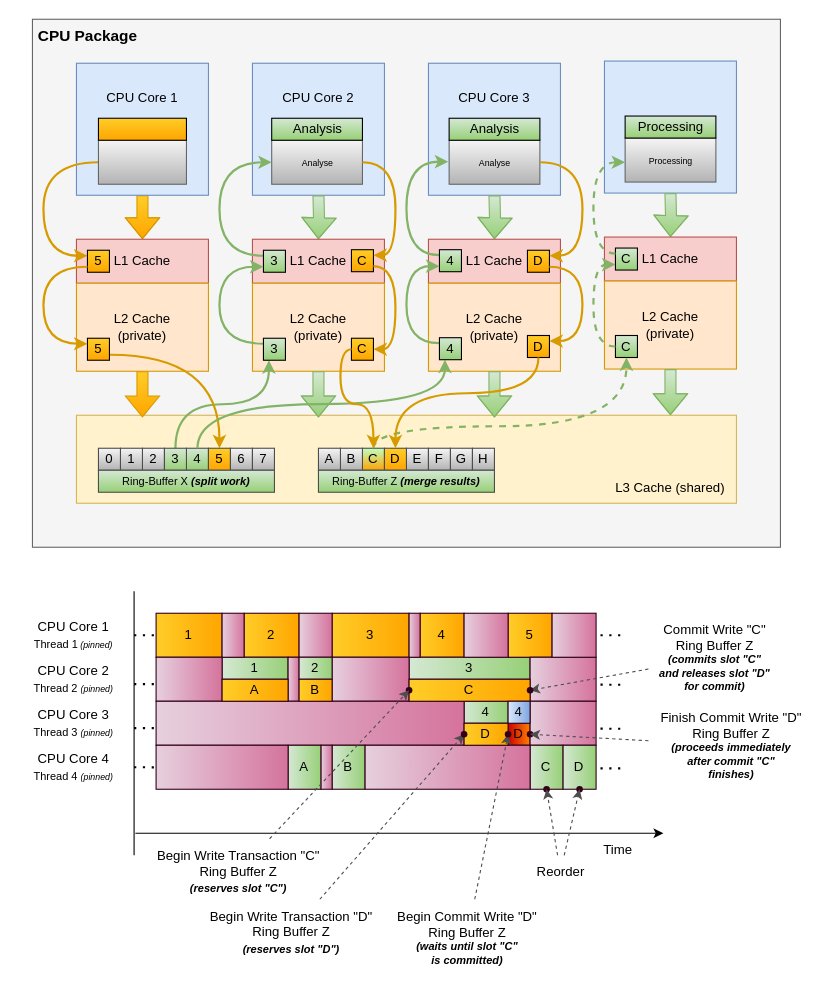
Some shapes in this 833 by 996 pixel diagram are drawn without their labels. Here are the shapes that lost their labels. From the top down, the box of each, then its label:
(97, 117, 186, 140): Market Data
(603, 60, 736, 193): CPU Core 4
(97, 139, 186, 184): Receive Parse Notify
